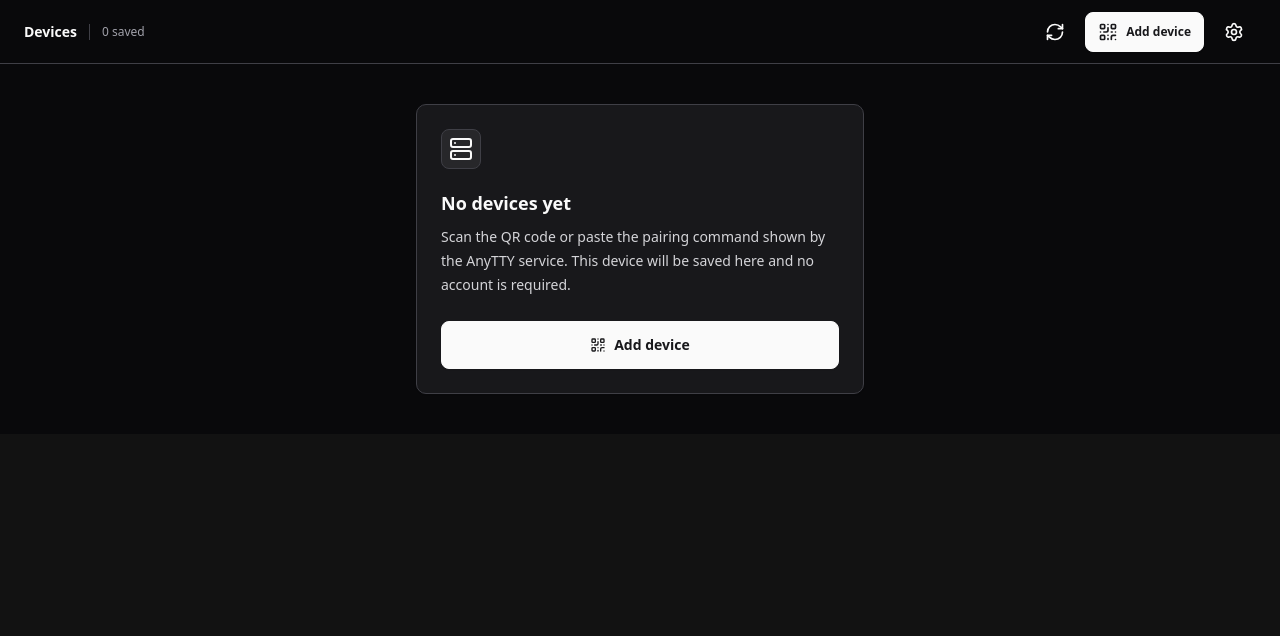
Test: RemoteControlApp accountless product shell › keeps diagnostic sharing retryable after a native failure
Click the button named "Open settings": coordinates (1234, 32) [1212,10,1256,54]
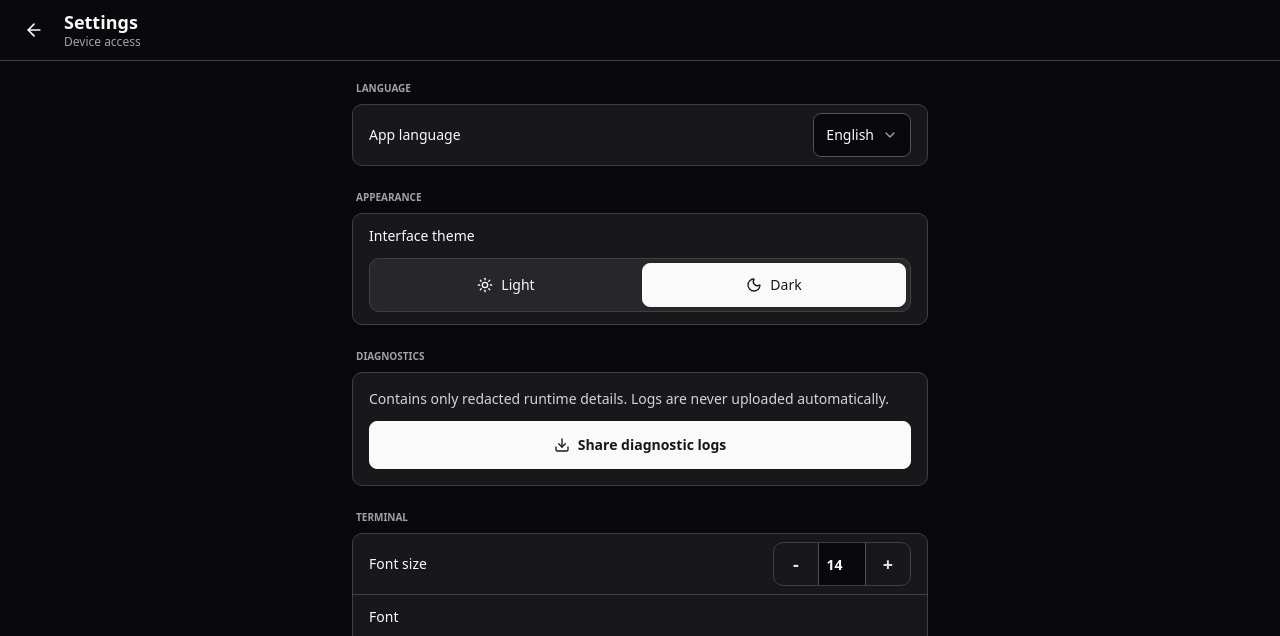
Click the button "Share diagnostic logs": coordinates (640, 445) [369,421,911,469]
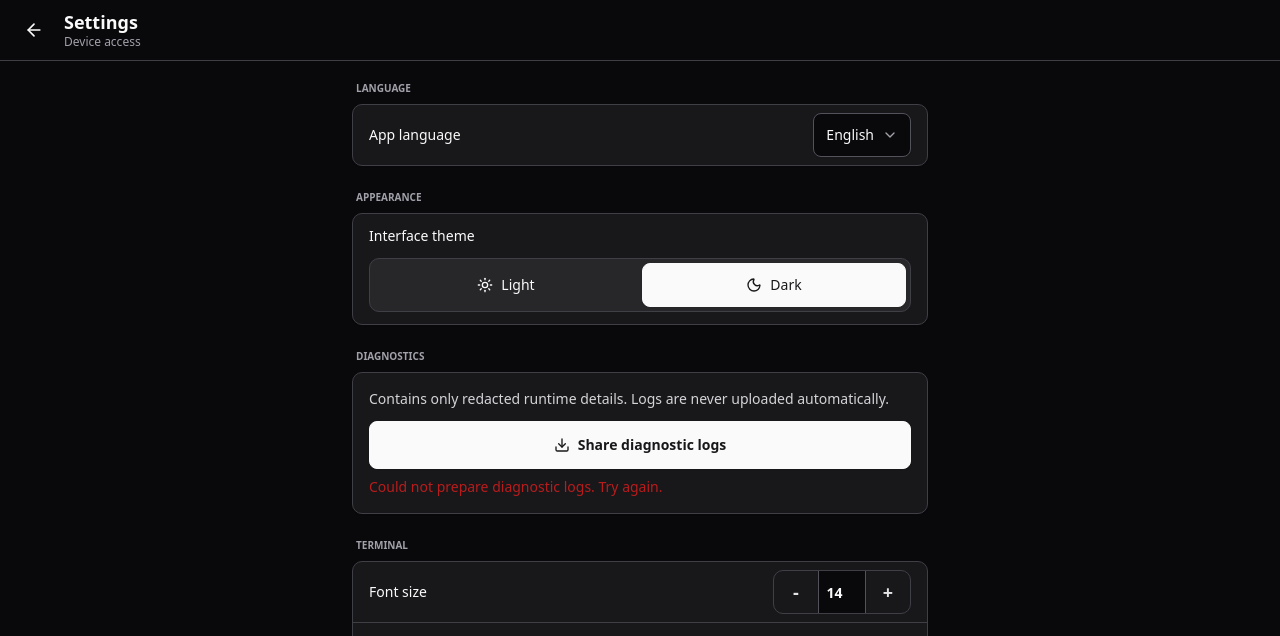
Expected: the message reads "Could not prepare diagnostic logs. Try again.", [369,477,662,496]
Click the button "Share diagnostic logs": coordinates (640, 445) [369,421,911,469]
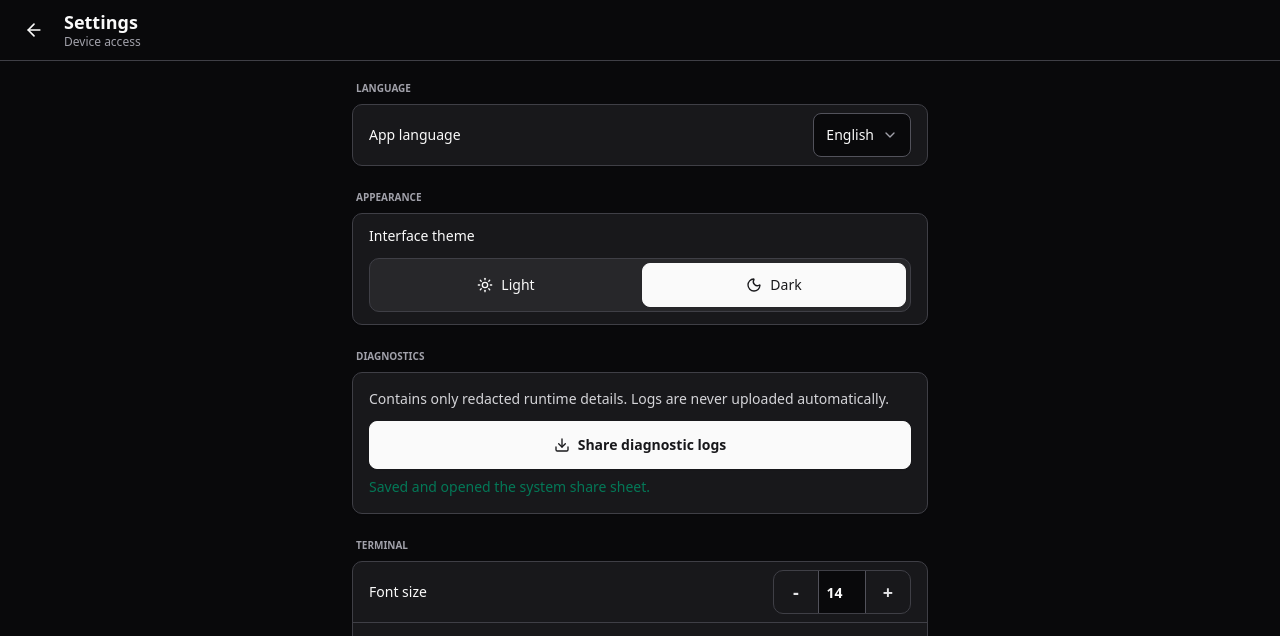
Expected: the message reads "Saved and opened the system share sheet.", [369,477,650,496]
